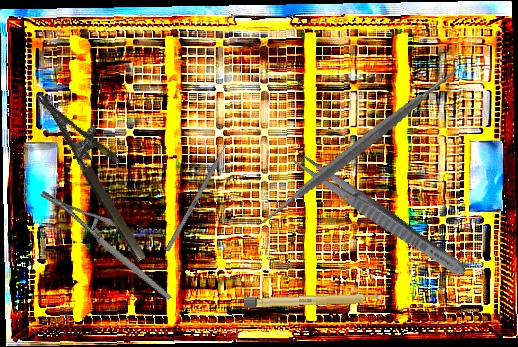Dressing Forceps: (287, 148, 471, 282)
Needle Holder: (35, 75, 170, 264), (38, 162, 172, 329)
Pusher: (164, 130, 236, 253)
Scalpel Handle: (243, 292, 383, 309)
Spatula Surgical: (243, 32, 475, 261)
